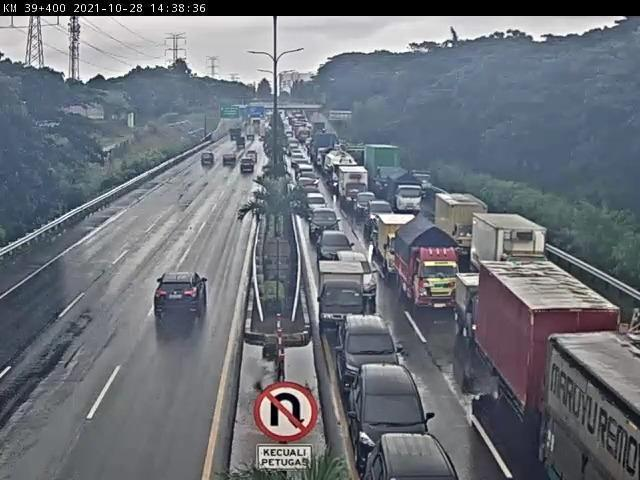car: (343, 362, 435, 445), (363, 432, 463, 480), (338, 314, 405, 381), (154, 263, 213, 328), (334, 250, 384, 301), (300, 206, 347, 240), (314, 231, 357, 265), (364, 202, 391, 237), (297, 191, 331, 216), (356, 194, 379, 217), (240, 156, 259, 175)
truck: (474, 262, 621, 432), (547, 335, 640, 480), (395, 219, 460, 312), (477, 216, 550, 275), (436, 192, 488, 264), (317, 262, 371, 330), (377, 215, 413, 276), (391, 167, 428, 220), (452, 275, 482, 340), (338, 167, 368, 209)
